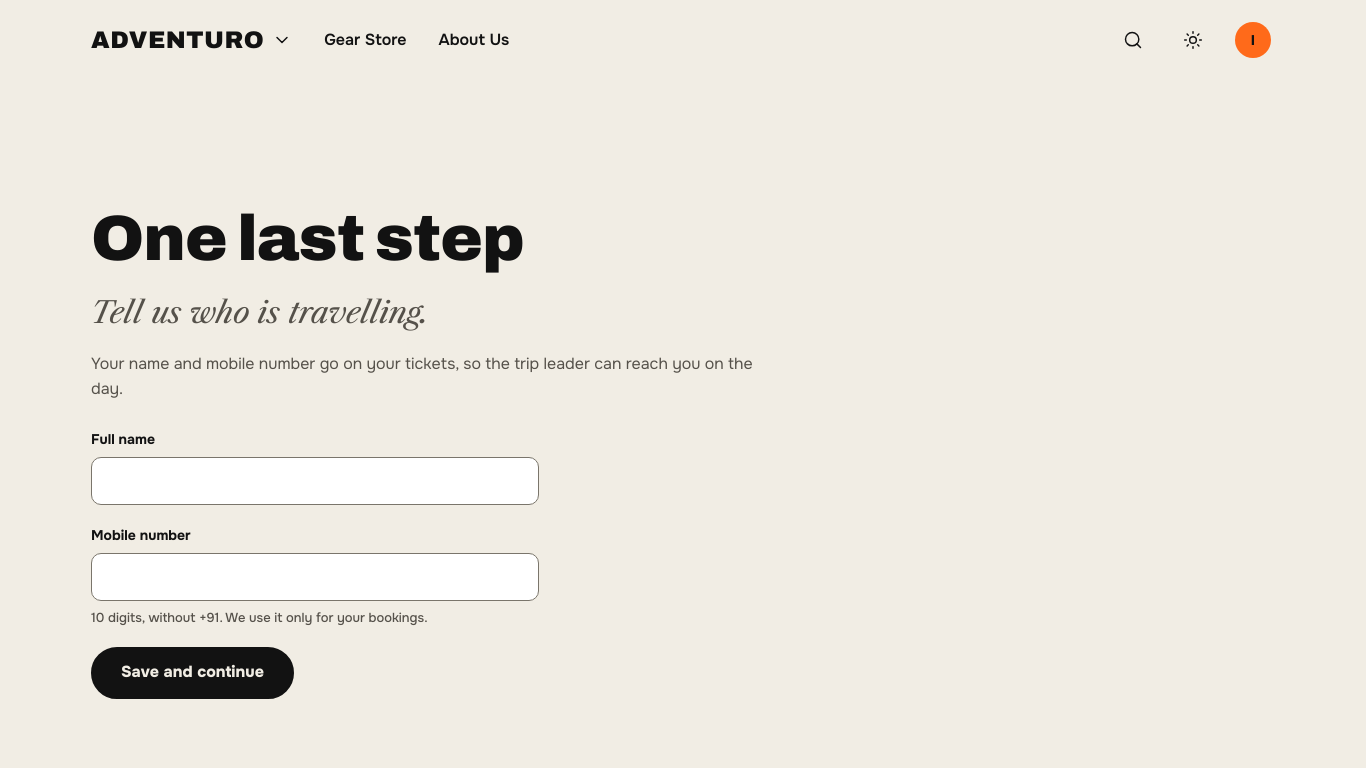
Scenario: AccountMenu › says so when the profile has no phone or name yet
What coordinates should you click on to do the following:
click the button named "Account"
I would click on:
 (1253, 40)
Its box is [1231,18,1275,62].
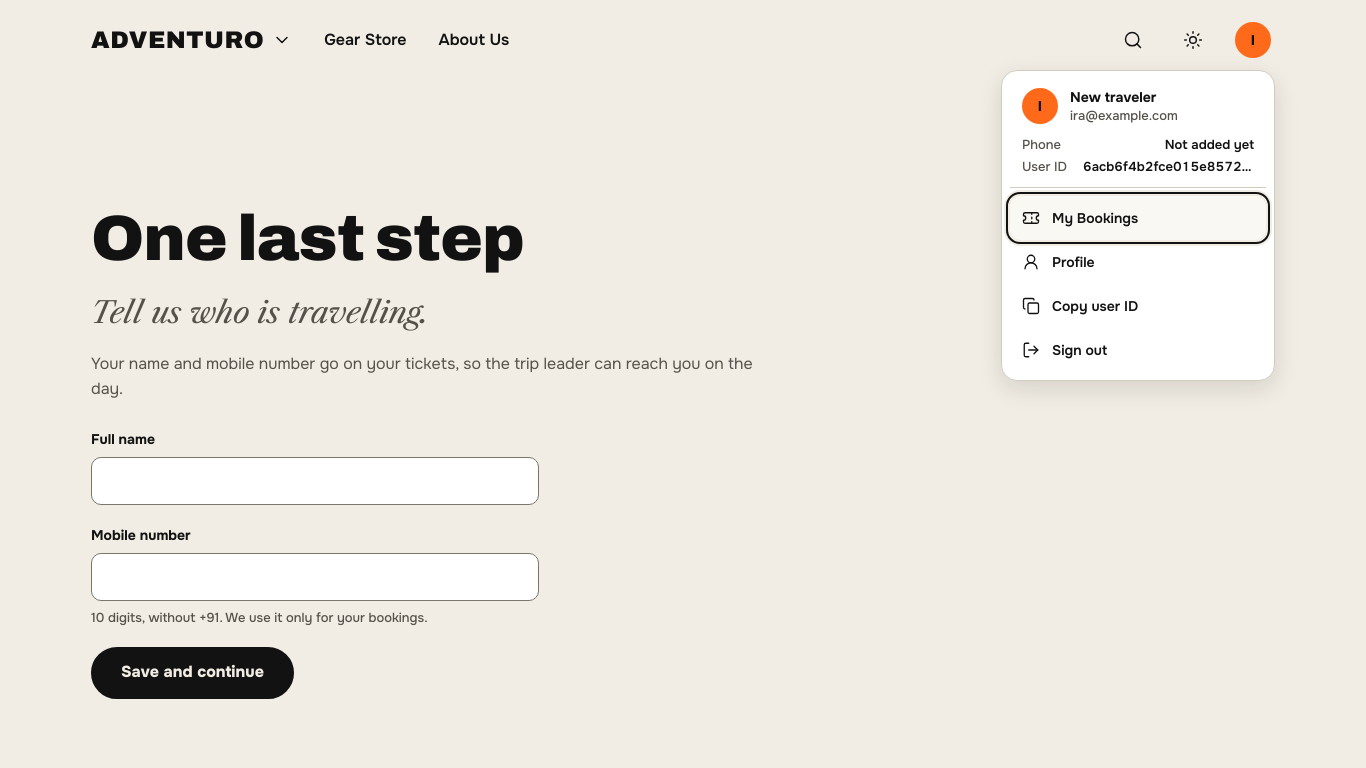
Check: the text "Not added yet" is shown, box [1165,136,1254,154]
Check: the text "New traveler" is shown, box [1070,88,1156,106]
